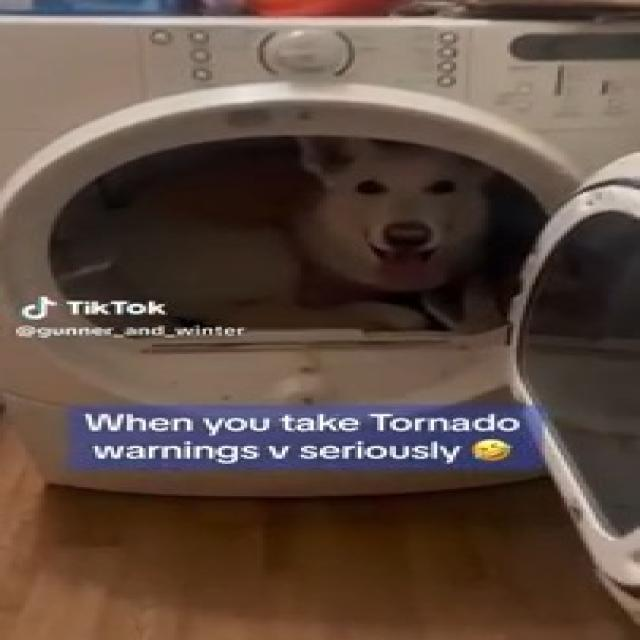dogs: (265, 137, 512, 317)
